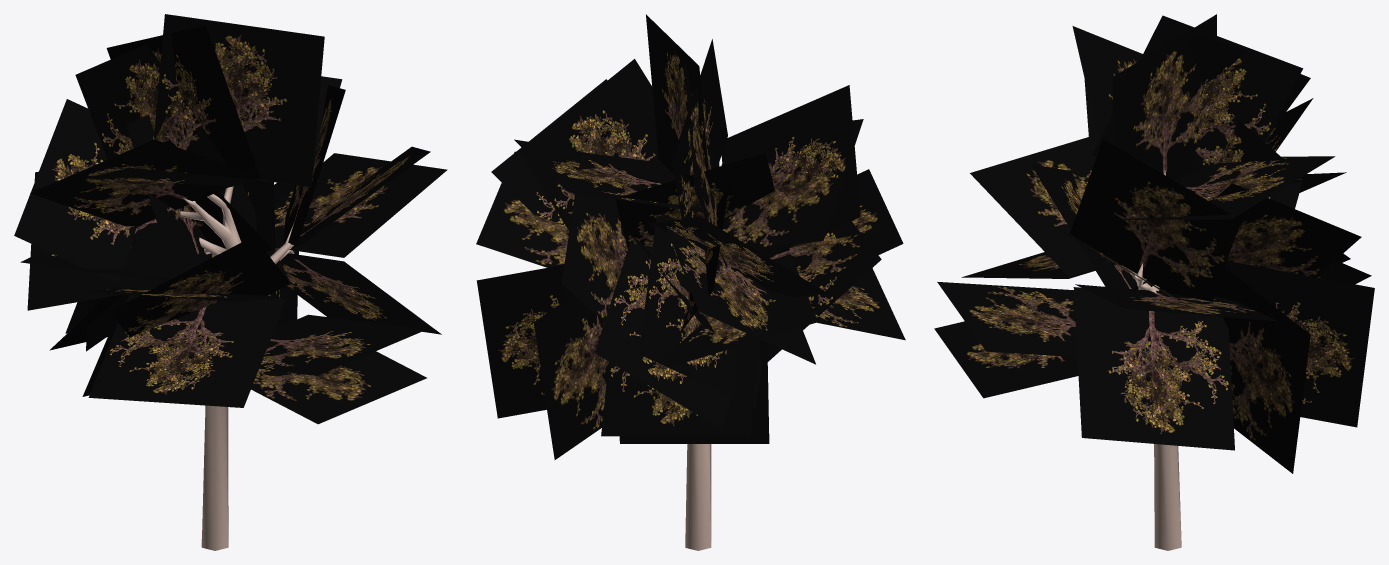
The model's file is tree8.glb.
The picture shows the model from 3 angles, left to right: view 1: azimuth 30°, elevation 25°; view 2: azimuth 150°, elevation 25°; view 3: azimuth 270°, elevation 25°; orthographic projection. The views are drawn at different scales.
Bounding box in the file's own units: 5.5 × 7.1 × 5.42.
2 materials, 1 textured.
